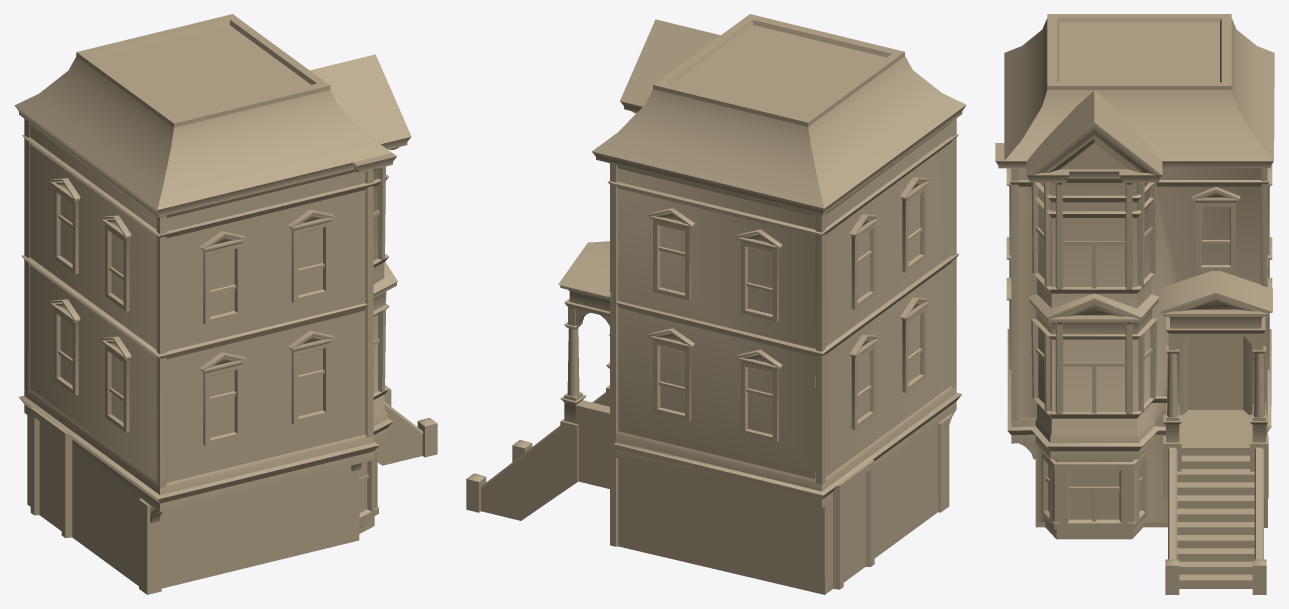
The model's file is sf_house.dae.
3 views of the same model, side by side, from view 1: azimuth 30°, elevation 25°; view 2: azimuth 150°, elevation 25°; view 3: azimuth 270°, elevation 25° (orthographic). The views are drawn at different scales.
Visible parts, largest first — view 1: SanFranciscoHouse, SanFranciscoHouseBasement; view 2: SanFranciscoHouse, SanFranciscoHouseBasement; view 3: SanFranciscoHouse, SanFranciscoHouseBasement.
Boxes of the visible parts, x1,y1,x2,y2 form: SanFranciscoHouse: (14,14,437,594); SanFranciscoHouseBasement: (27,499,374,588); SanFranciscoHouse: (466,14,966,589); SanFranciscoHouseBasement: (618,471,937,594); SanFranciscoHouse: (995,14,1274,594); SanFranciscoHouseBasement: (1035,522,1167,539).
Size of the model in its own units: 8.44 by 5.92 by 10.07.
